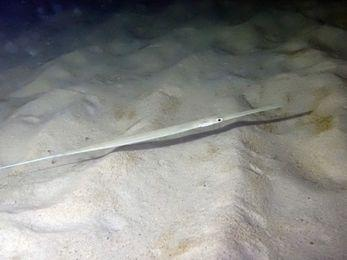Fistularia commersonii: (11, 85, 330, 202)
